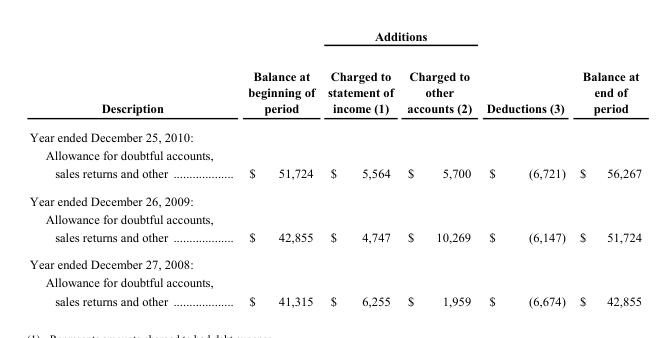table: (28, 28, 641, 307)
table column: (28, 28, 207, 307), (207, 28, 320, 307), (478, 28, 571, 307), (320, 28, 399, 307), (399, 28, 478, 307), (571, 28, 641, 307)
table column header: (28, 28, 641, 122)
table projected row header: (28, 122, 641, 145), (28, 186, 641, 209), (28, 250, 641, 272), (28, 272, 641, 291), (28, 145, 641, 163), (28, 209, 641, 227)
table row: (28, 55, 641, 122), (28, 28, 641, 55), (28, 122, 641, 145), (28, 163, 641, 186), (28, 186, 641, 209), (28, 227, 641, 250), (28, 250, 641, 272), (28, 272, 641, 291), (28, 145, 641, 163), (28, 209, 641, 227), (28, 291, 641, 307)
table spanning cell: (28, 28, 207, 122), (207, 28, 320, 122), (478, 28, 571, 122), (571, 28, 641, 122), (320, 28, 478, 55)
